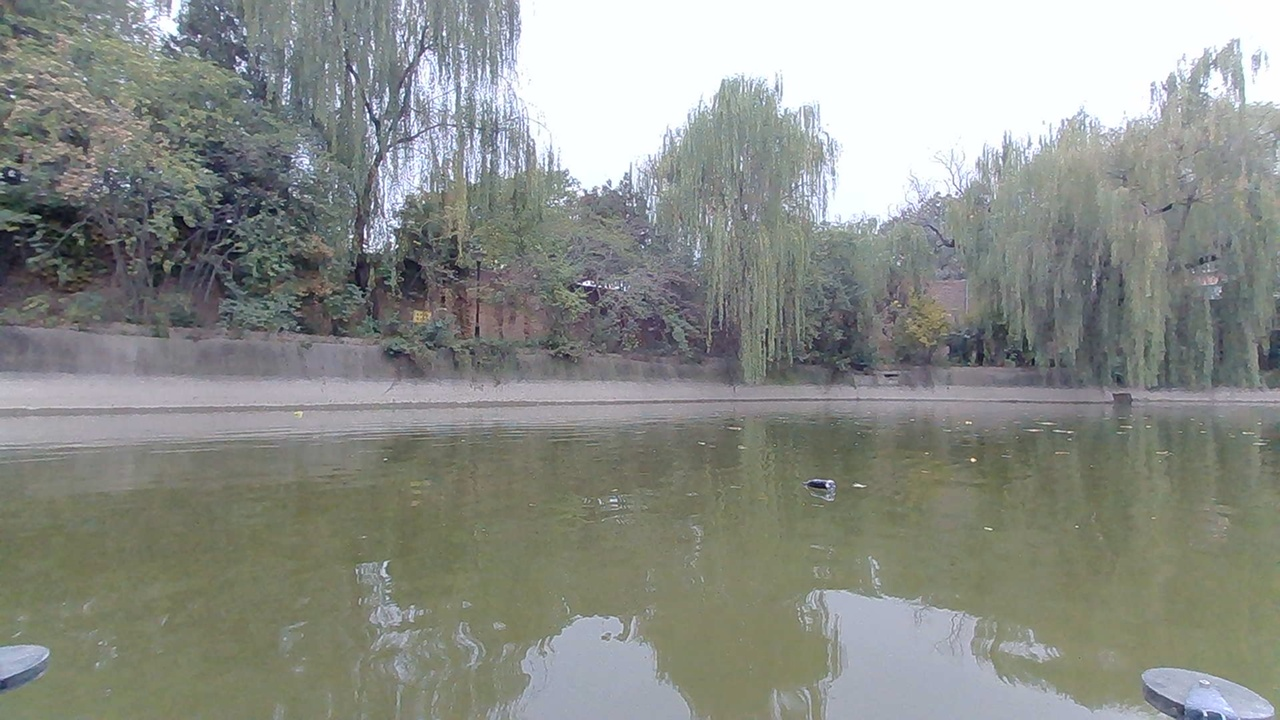bottle: (810, 476, 838, 502)
